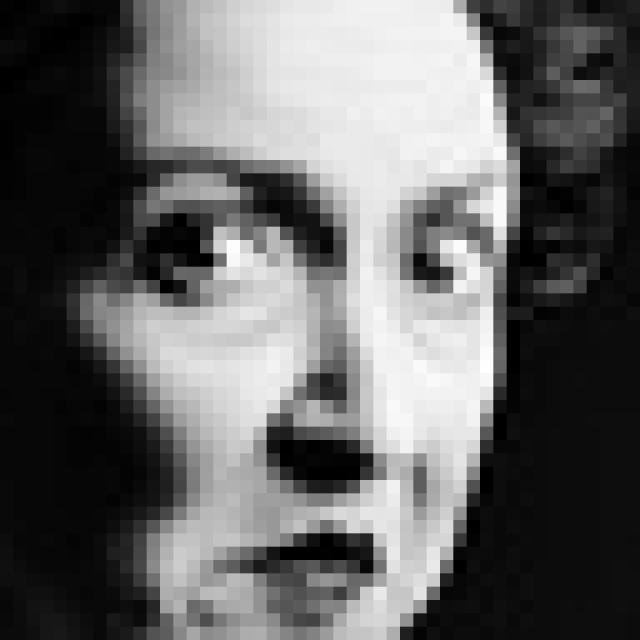disgust: (120, 140, 505, 640)
